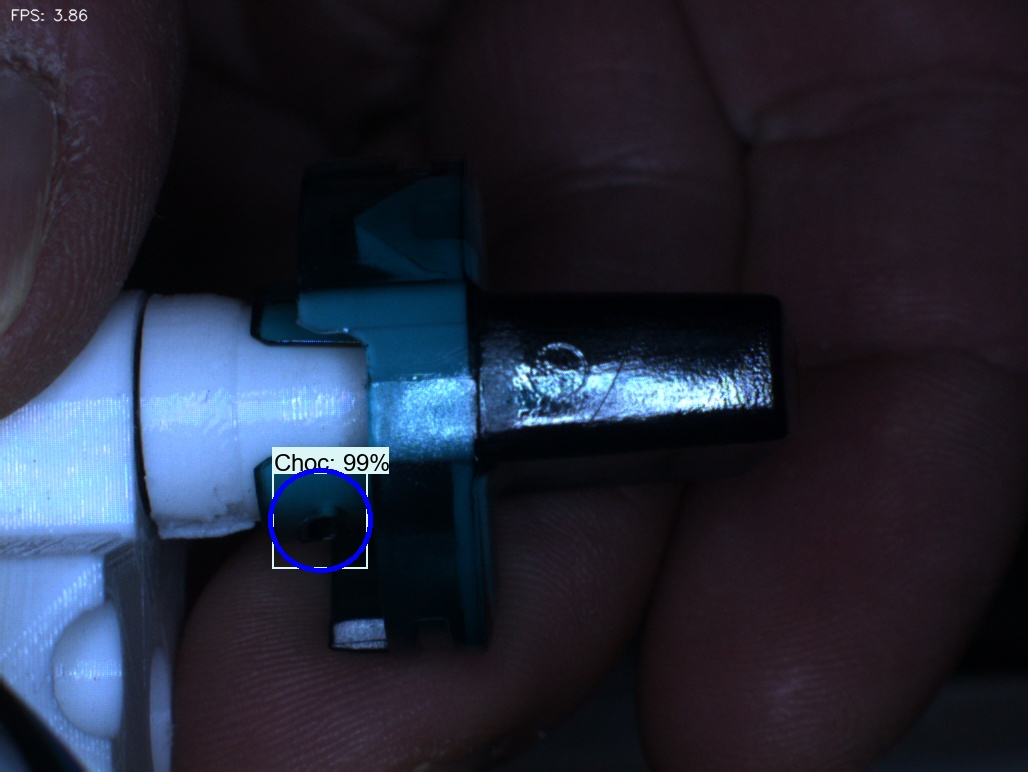DentOk: (332, 184, 394, 265)
